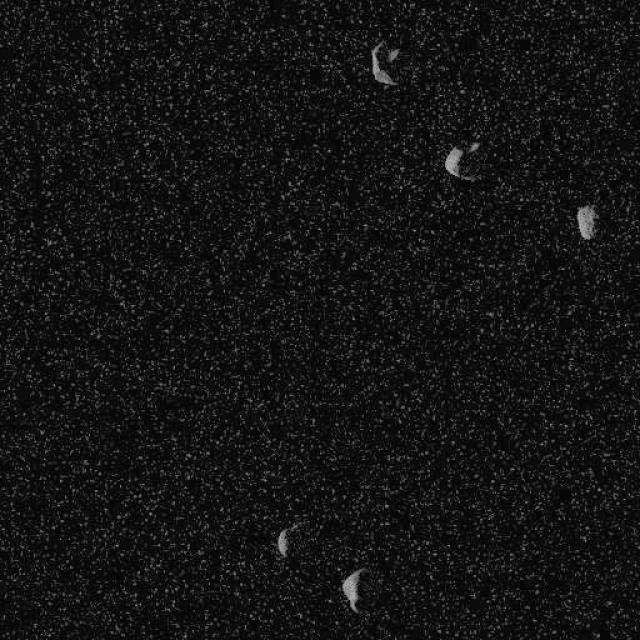D2: (442, 139, 482, 181), (370, 39, 400, 86), (340, 566, 369, 614), (575, 202, 596, 240), (275, 526, 290, 558)
